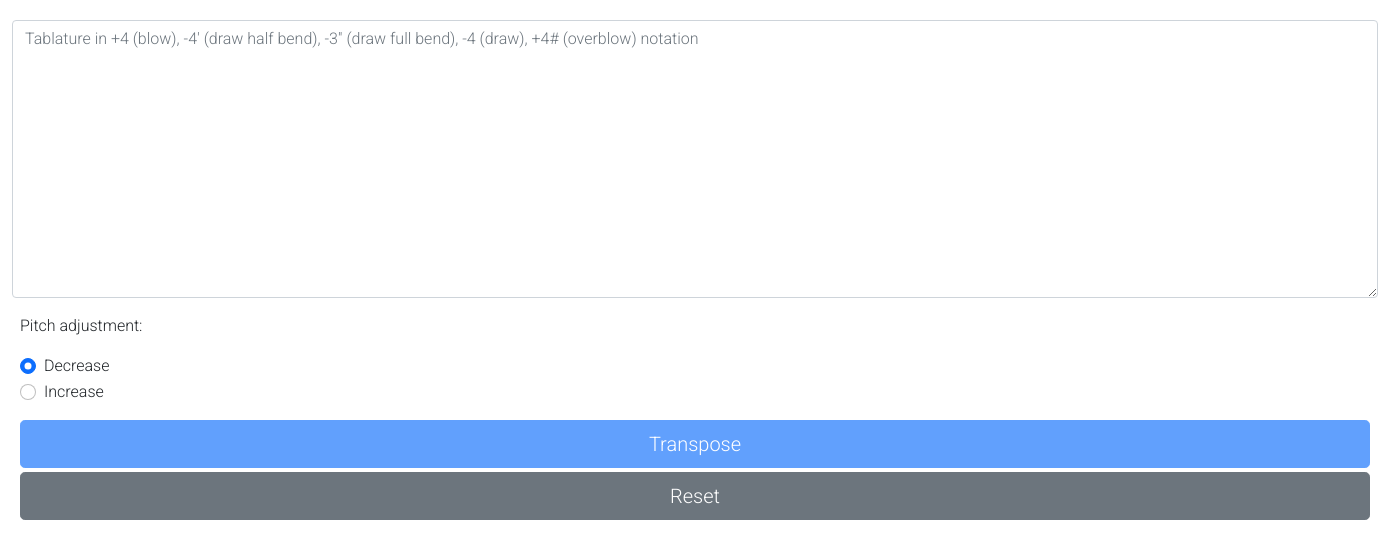
Test: Transposer › Transpose button › Transposing "+3" with pitch "-1" should result show an error
Replace the text in the text box with id "tablature" with "+3" at coordinates (695, 159), box 12,20 -> 1378,298
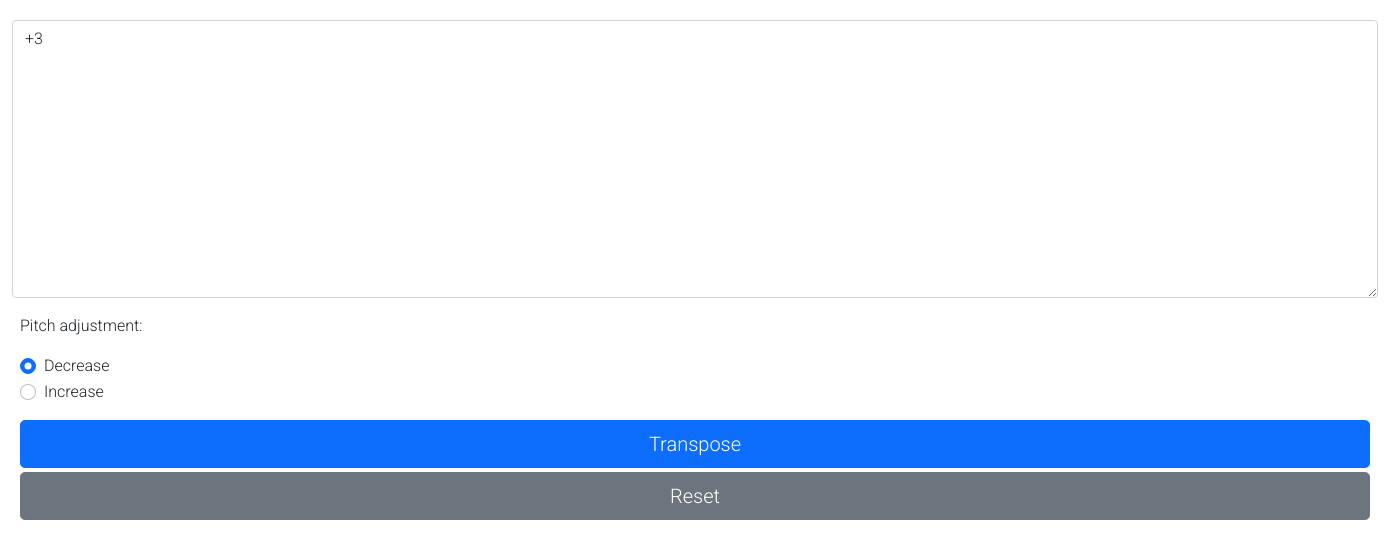
Click the button with id "transposeBtn" at coordinates (695, 444), box 20,420 -> 1370,468
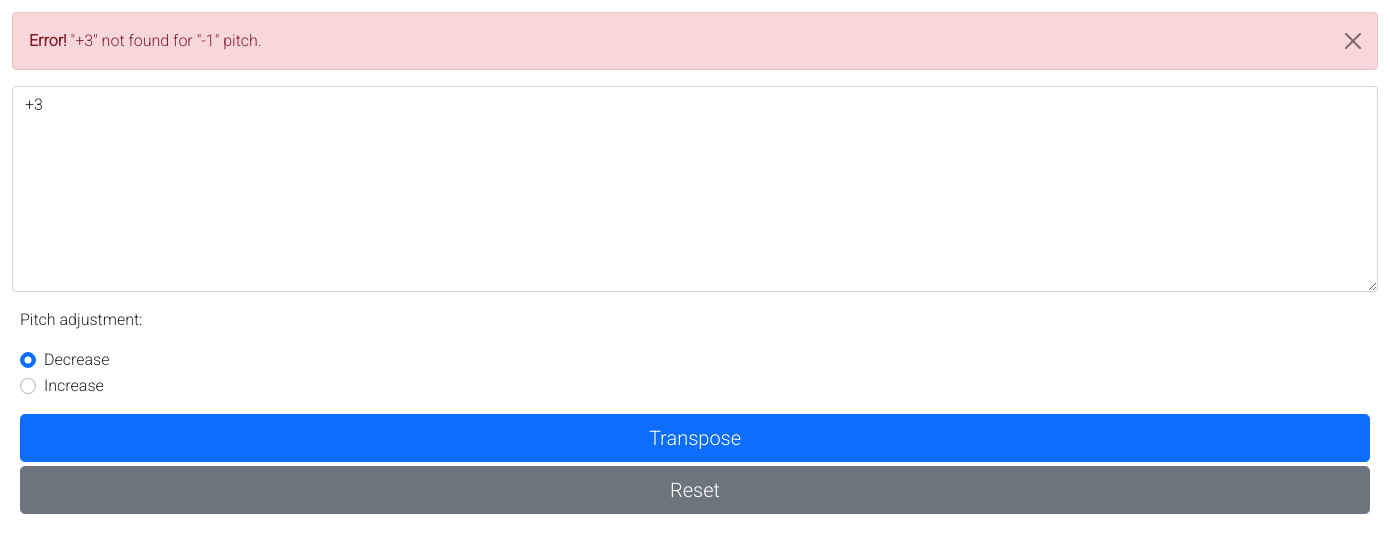
expect the message "Error! \"+3\" not found for \"-1\" pitch." is shown: met, box 12,12 -> 1378,70
